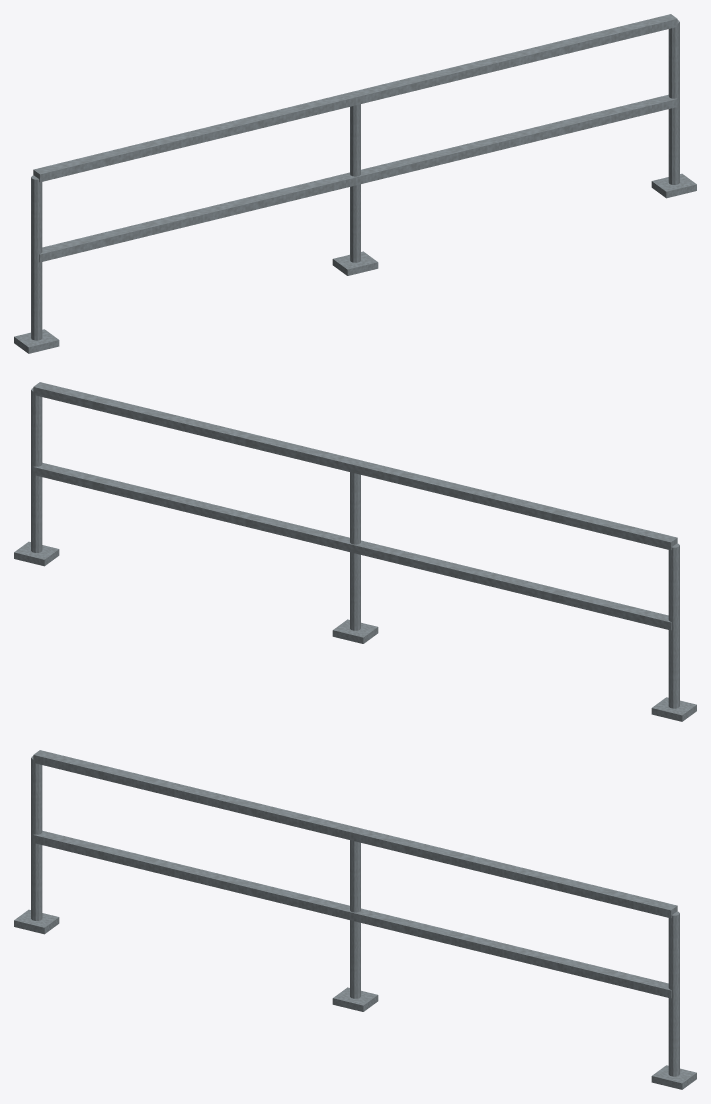
The model's file is PZ_08_WalkwayHandrail_5m.glb.
The picture shows the model from 3 angles, top to bottom: view 1: azimuth 30°, elevation 25°; view 2: azimuth 150°, elevation 25°; view 3: azimuth 330°, elevation 25°; orthographic projection.
Visible parts, largest first — view 1: RAIL_Horizontal_1, RAIL_Horizontal_0, RAIL_Stanchion_00, RAIL_Stanchion_02, RAIL_Stanchion_01, RAIL_BasePlate_01, RAIL_BasePlate_00, RAIL_BasePlate_02; view 2: RAIL_Horizontal_1, RAIL_Horizontal_0, RAIL_Stanchion_00, RAIL_Stanchion_02, RAIL_Stanchion_01, RAIL_BasePlate_01, RAIL_BasePlate_00, RAIL_BasePlate_02; view 3: RAIL_Horizontal_1, RAIL_Horizontal_0, RAIL_Stanchion_02, RAIL_Stanchion_00, RAIL_Stanchion_01, RAIL_BasePlate_01, RAIL_BasePlate_02, RAIL_BasePlate_00.
Boxes of the visible parts, left/top/right/bottom form: RAIL_Horizontal_1: left=33, top=14, right=677, bottom=182; RAIL_Horizontal_0: left=39, top=94, right=677, bottom=262; RAIL_Stanchion_00: left=31, top=175, right=42, bottom=340; RAIL_Stanchion_02: left=668, top=20, right=679, bottom=184; RAIL_Stanchion_01: left=350, top=104, right=360, bottom=262; RAIL_BasePlate_01: left=332, top=251, right=378, bottom=275; RAIL_BasePlate_00: left=14, top=329, right=59, bottom=353; RAIL_BasePlate_02: left=651, top=173, right=696, bottom=198; RAIL_Horizontal_1: left=33, top=382, right=677, bottom=550; RAIL_Horizontal_0: left=33, top=462, right=671, bottom=630; RAIL_Stanchion_00: left=668, top=543, right=679, bottom=708; RAIL_Stanchion_02: left=31, top=388, right=42, bottom=552; RAIL_Stanchion_01: left=350, top=472, right=360, bottom=630; RAIL_BasePlate_01: left=332, top=619, right=378, bottom=643; RAIL_BasePlate_00: left=651, top=697, right=696, bottom=721; RAIL_BasePlate_02: left=14, top=541, right=59, bottom=566; RAIL_Horizontal_1: left=33, top=750, right=677, bottom=918; RAIL_Horizontal_0: left=33, top=830, right=671, bottom=998; RAIL_Stanchion_02: left=668, top=911, right=679, bottom=1076; RAIL_Stanchion_00: left=31, top=756, right=42, bottom=920; RAIL_Stanchion_01: left=350, top=840, right=360, bottom=998; RAIL_BasePlate_01: left=332, top=987, right=378, bottom=1011; RAIL_BasePlate_02: left=651, top=1065, right=696, bottom=1089; RAIL_BasePlate_00: left=14, top=909, right=59, bottom=934.
Size of the model in its own units: 5.24 by 1.29 by 0.2.
Materials: 1 (1 with a texture image).
